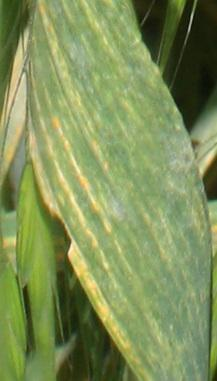Wheat: (55, 236, 151, 366), (30, 102, 95, 222)
